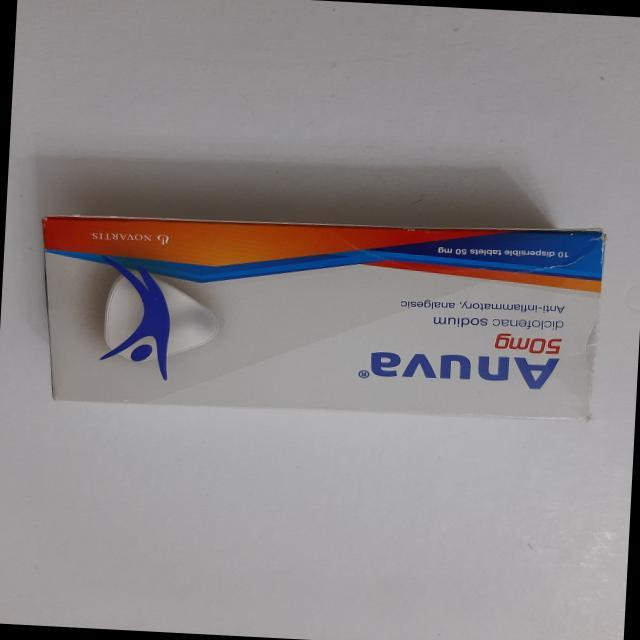Medicine Name: (365, 348, 559, 395)
